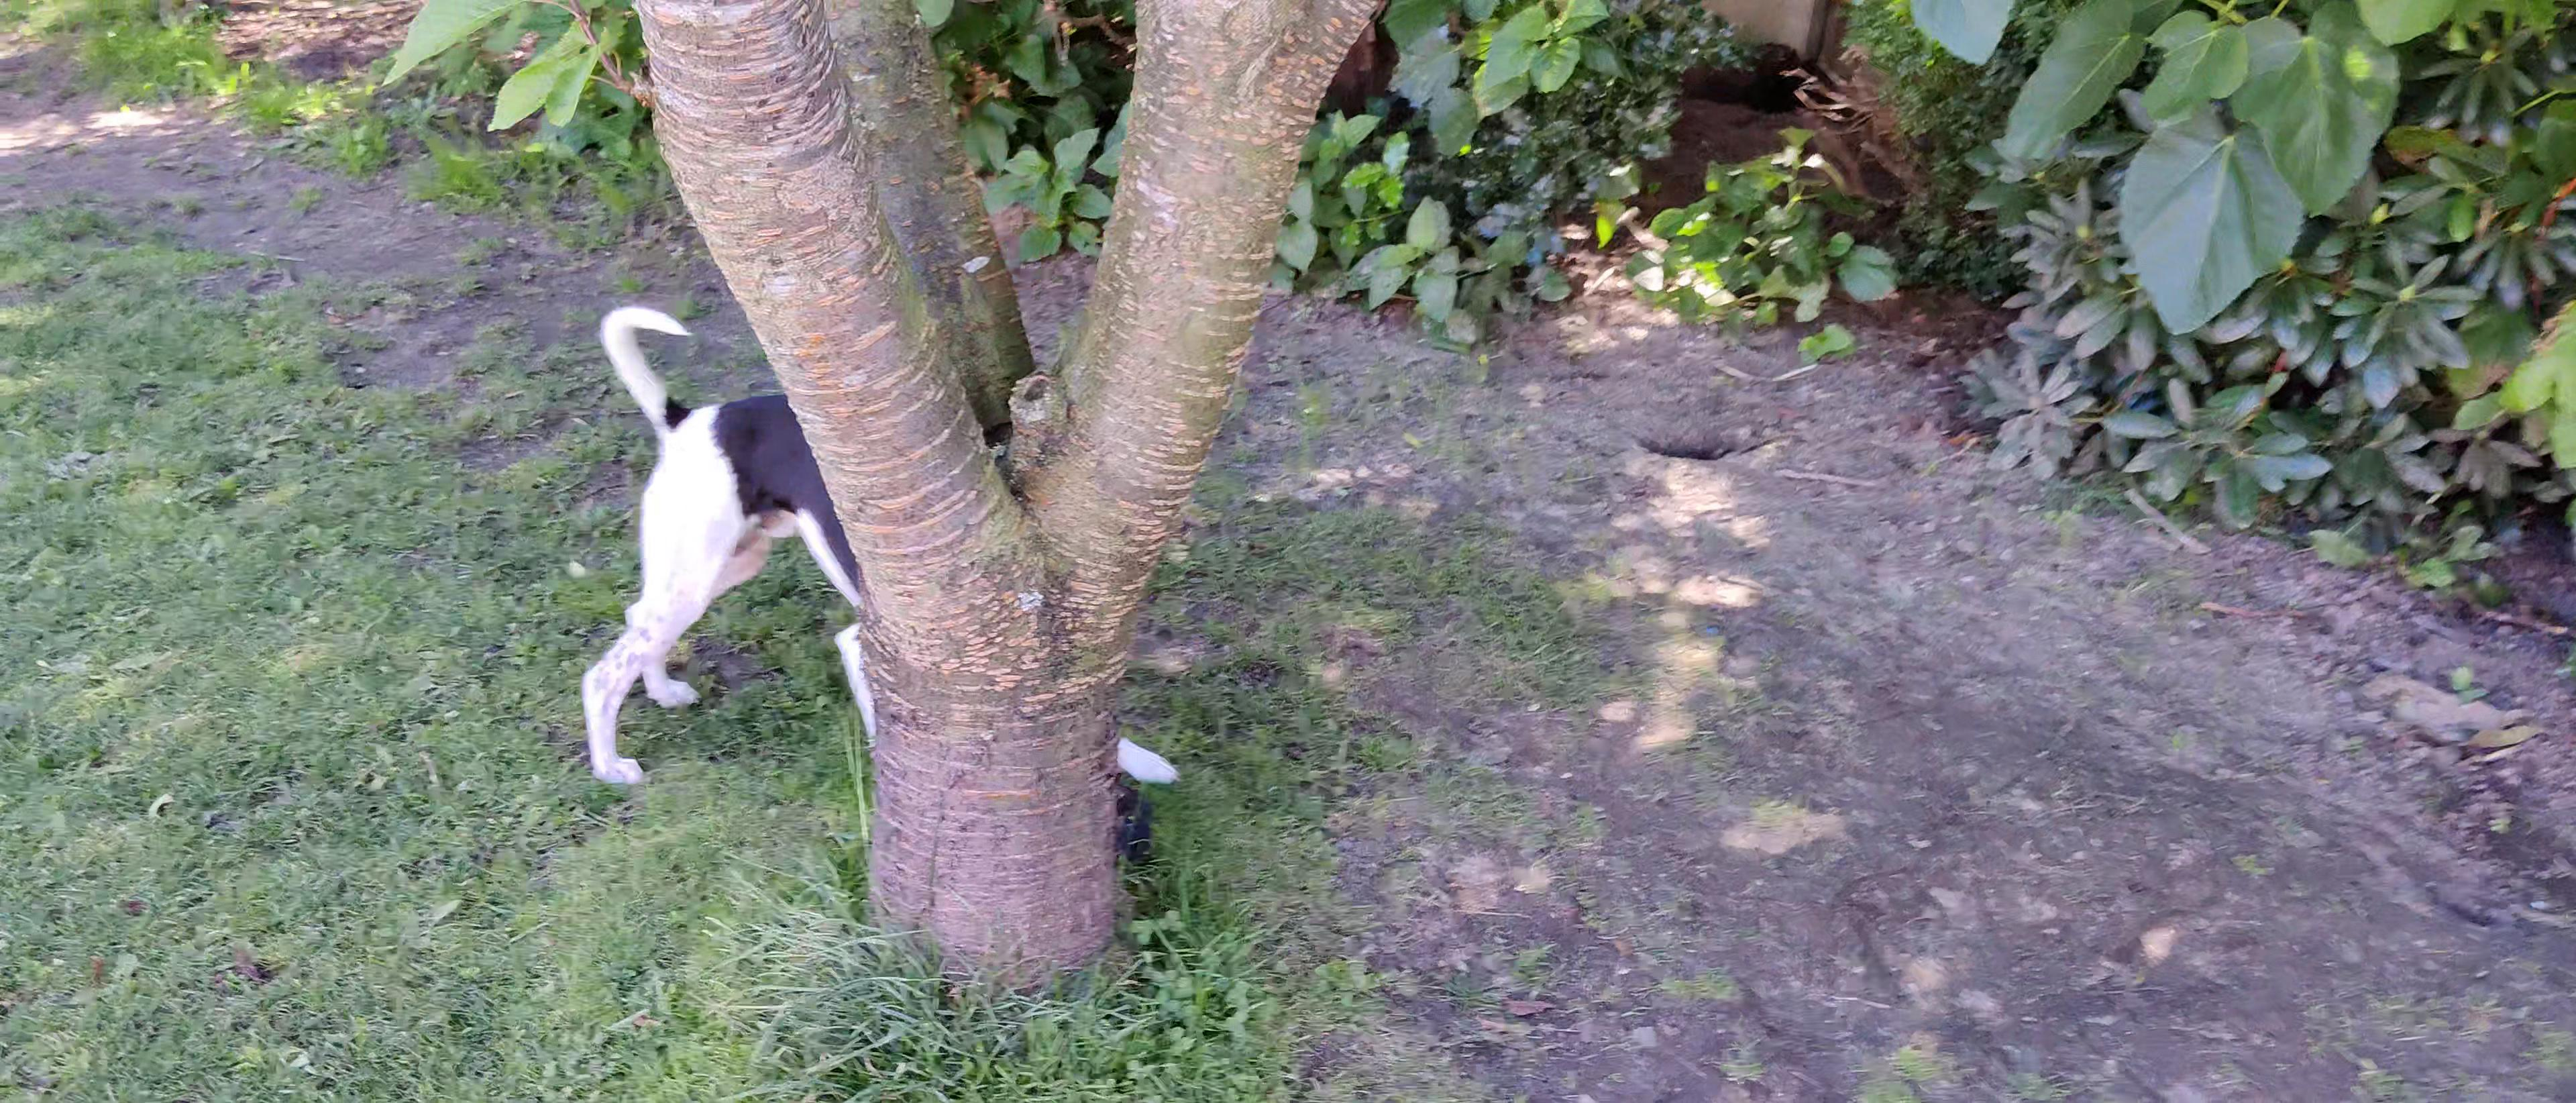Dog: (544, 299, 1214, 791)
